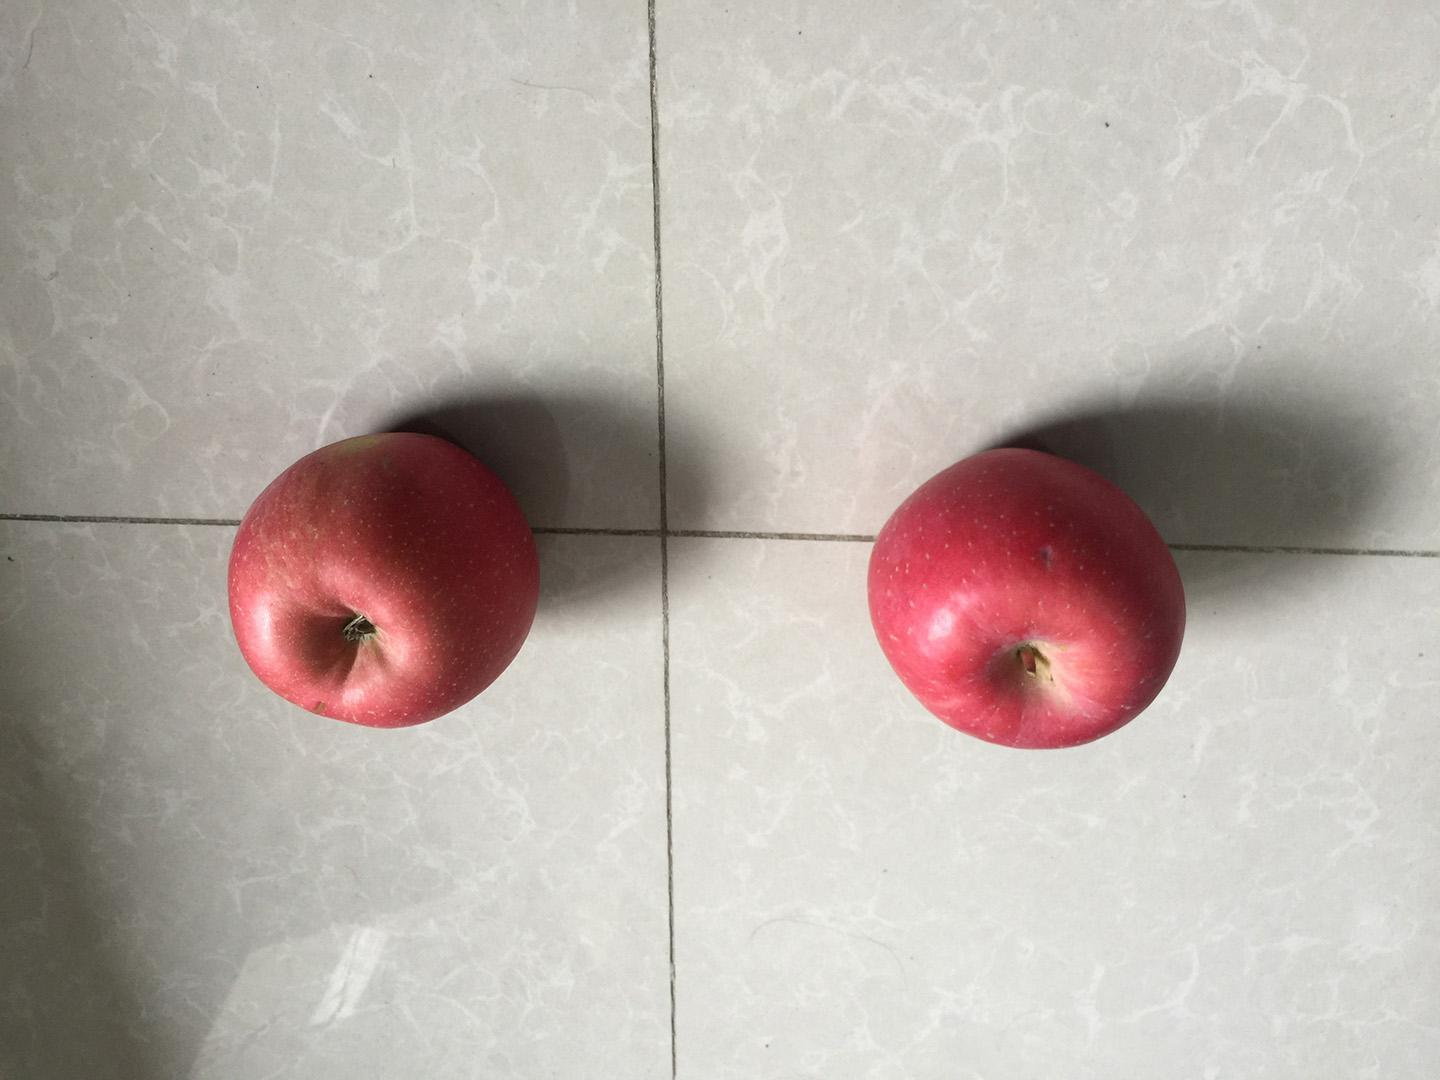apple: (859, 436, 1197, 756), (222, 424, 548, 740)
